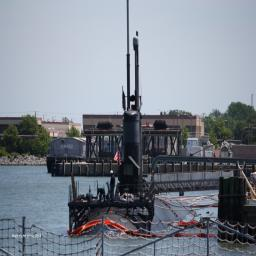submarine: (70, 2, 199, 238)
